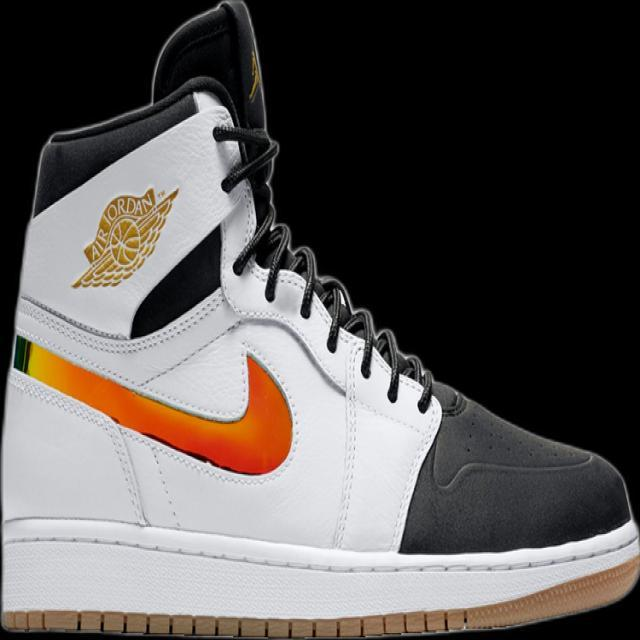J1_InsoleChar: (0, 0, 639, 639)
J1_ShoeLogo: (70, 183, 180, 289)
J1_StitchPattern: (13, 81, 444, 551), (210, 112, 437, 415), (240, 218, 443, 550), (0, 549, 639, 638), (0, 520, 639, 578), (258, 225, 435, 413), (1, 607, 470, 639), (329, 303, 435, 414), (212, 119, 282, 274), (329, 339, 363, 552), (260, 221, 291, 302), (320, 279, 353, 353), (373, 326, 404, 402), (243, 46, 263, 103)
